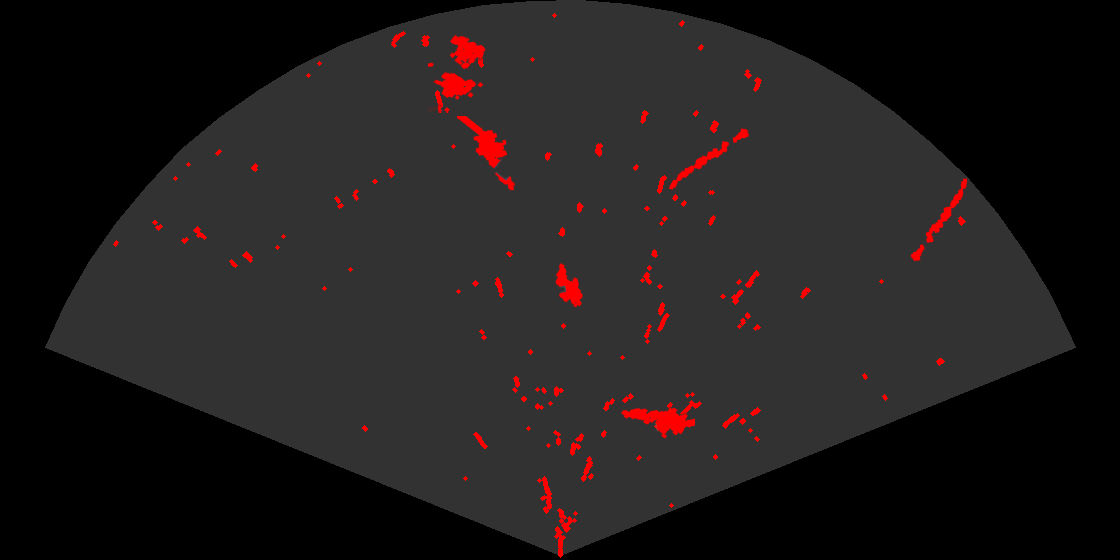AUV: (554, 262, 584, 309)
cage: (428, 33, 487, 113)
chain: (667, 127, 751, 191), (909, 177, 969, 263)
frogman: (457, 116, 517, 192), (620, 406, 695, 440)
